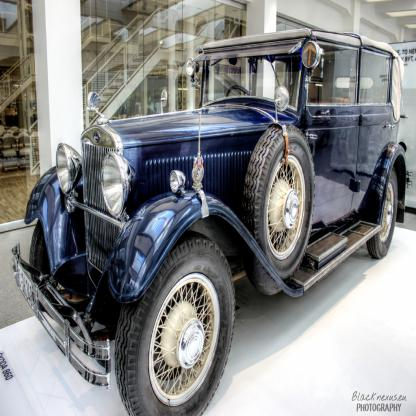Car: (12, 28, 413, 416)
